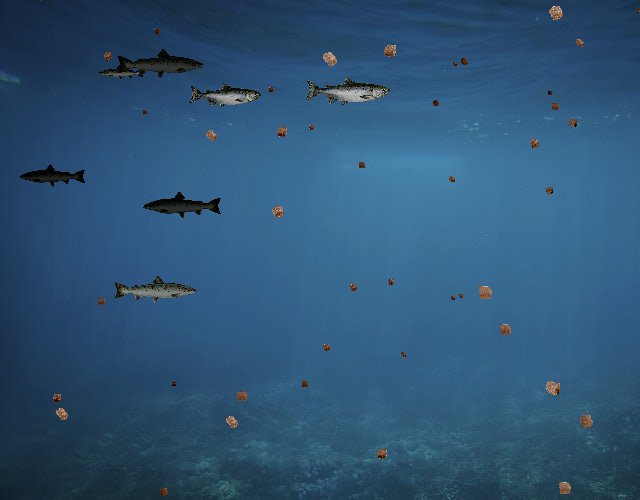Fish: (115, 47, 205, 80), (112, 274, 198, 305), (304, 76, 390, 107), (143, 190, 224, 219), (189, 83, 262, 109), (19, 164, 87, 188), (99, 64, 146, 81)
Pellet: (314, 44, 344, 74), (471, 279, 499, 307), (493, 318, 517, 342), (199, 124, 223, 148), (524, 133, 544, 153), (456, 290, 466, 300)
